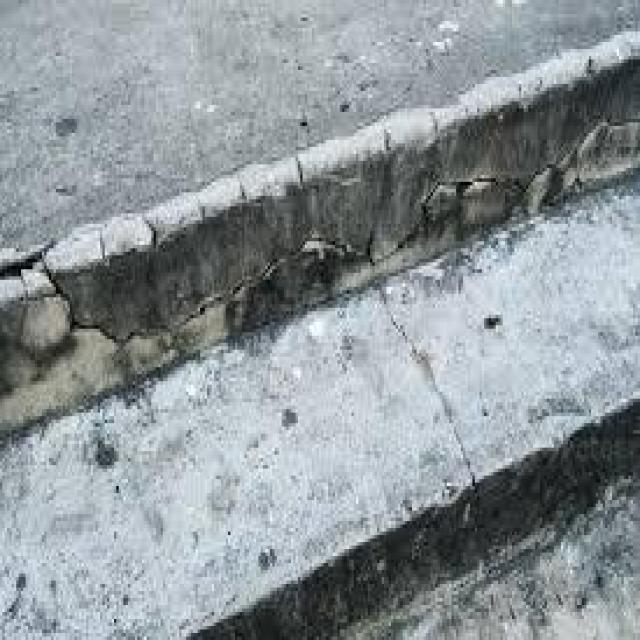curb: (1, 155, 277, 448), (271, 449, 614, 628), (467, 28, 630, 259), (296, 100, 444, 349)
